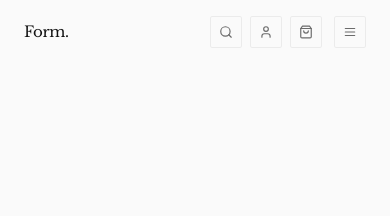
Test: Navbar › mobile menu › mobile menu contains all nav links
Step 1. Click the button with test id "navbar-mobile-toggle" → (350, 32), box 334,16 -> 366,48
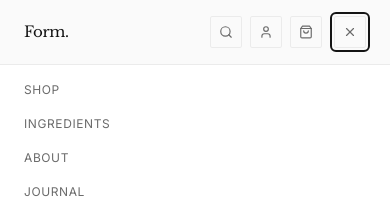
Expected: the link with test id "mobile-nav-link-shop" is shown, 24,82 -> 60,97
Expected: the link with test id "mobile-nav-link-ingredients" is shown, 24,116 -> 110,131
Expected: the link with test id "mobile-nav-link-about" is shown, 24,150 -> 69,165
